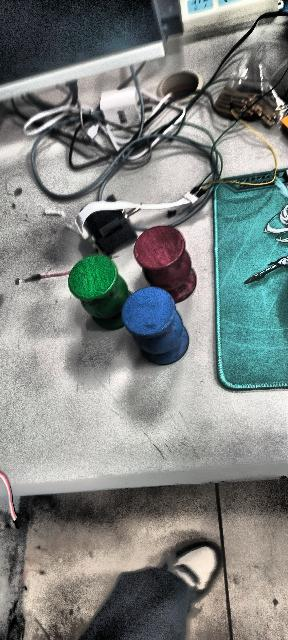blue: (121, 285, 189, 365)
green: (69, 247, 127, 334)
red: (133, 222, 197, 297)
